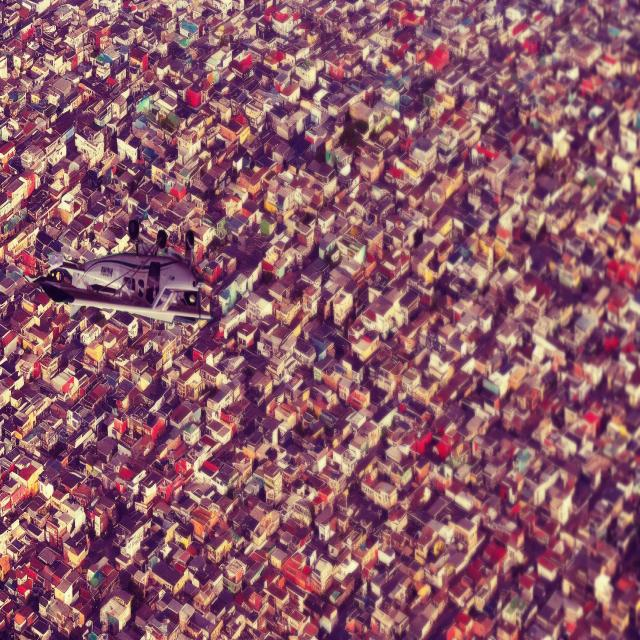airplane: (22, 225, 214, 330)
